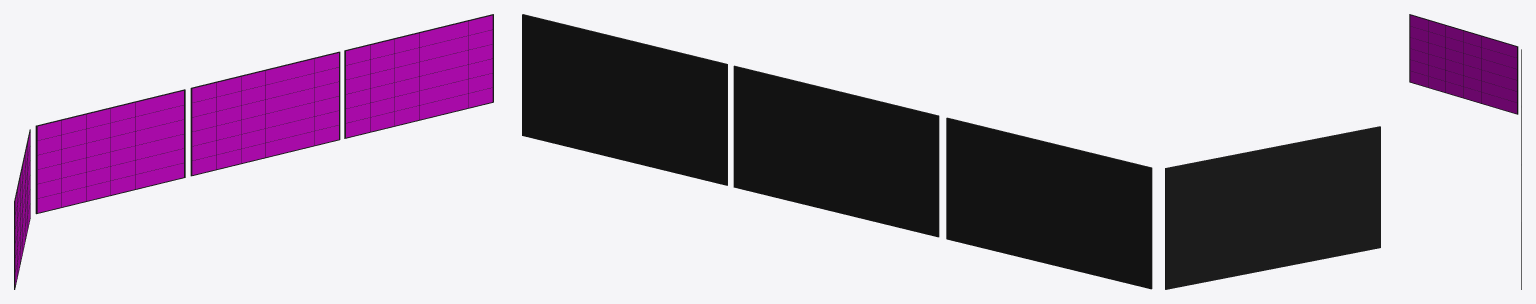
File: screensMultiple.fbx
3 views of the same model, side by side, from view 1: azimuth 30°, elevation 25°; view 2: azimuth 150°, elevation 25°; view 3: azimuth 270°, elevation 25° (orthographic). The views are drawn at different scales.
Parts seen in each view (by area): view 1: screen_2, screen_4, screen_3, smallFrame (×4), bigFrame (×4), screen_1; view 2: bigFrame (×4); view 3: screen_1, bigFrame (×2), smallFrame.
Part boxes in pixels (bbox=[...]): screen_2: bbox=[37, 91, 183, 212]; screen_4: bbox=[346, 15, 492, 137]; screen_3: bbox=[192, 53, 338, 174]; smallFrame (×4): bbox=[15, 21, 492, 276]; bigFrame (×4): bbox=[14, 14, 493, 289]; screen_1: bbox=[15, 133, 30, 285]; bigFrame (×4): bbox=[522, 14, 1380, 289]; screen_1: bbox=[1410, 15, 1516, 113]; bigFrame (×2): bbox=[1409, 14, 1521, 289]; smallFrame: bbox=[1410, 20, 1516, 102].
Size of the model in its own units: 1708 by 261 by 390.
